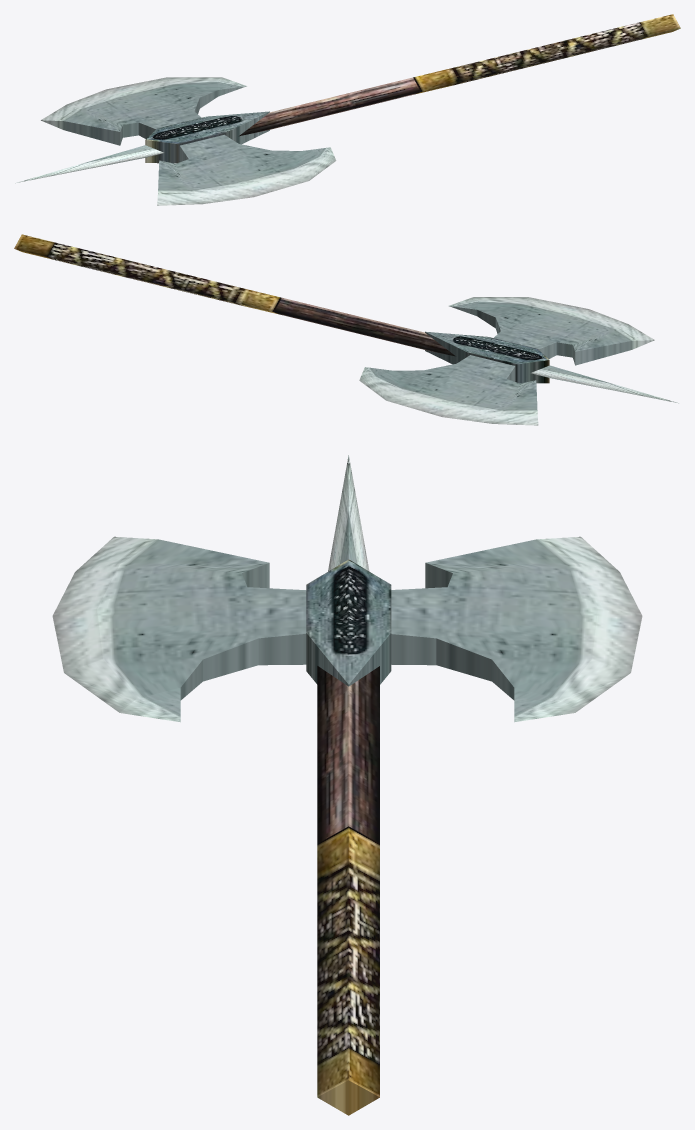
Rendered from ITMW_040_1H_AXE_02.glb.
3 renders of one model, top to bottom at view 1: azimuth 30°, elevation 25°; view 2: azimuth 150°, elevation 25°; view 3: azimuth 270°, elevation 25°, orthographic. The views are drawn at different scales.
Visible parts, largest first — view 1: ITMW_040_1H_AXE_02; view 2: ITMW_040_1H_AXE_02; view 3: ITMW_040_1H_AXE_02.
Part boxes in pixels (<box>): ITMW_040_1H_AXE_02: <box>15,14,680,205</box>; ITMW_040_1H_AXE_02: <box>14,234,678,425</box>; ITMW_040_1H_AXE_02: <box>52,455,642,1115</box>.
Bounding box in the file's own units: 0.8982 × 0.03 × 0.3481.
Materials: 2 (2 with a texture image).
